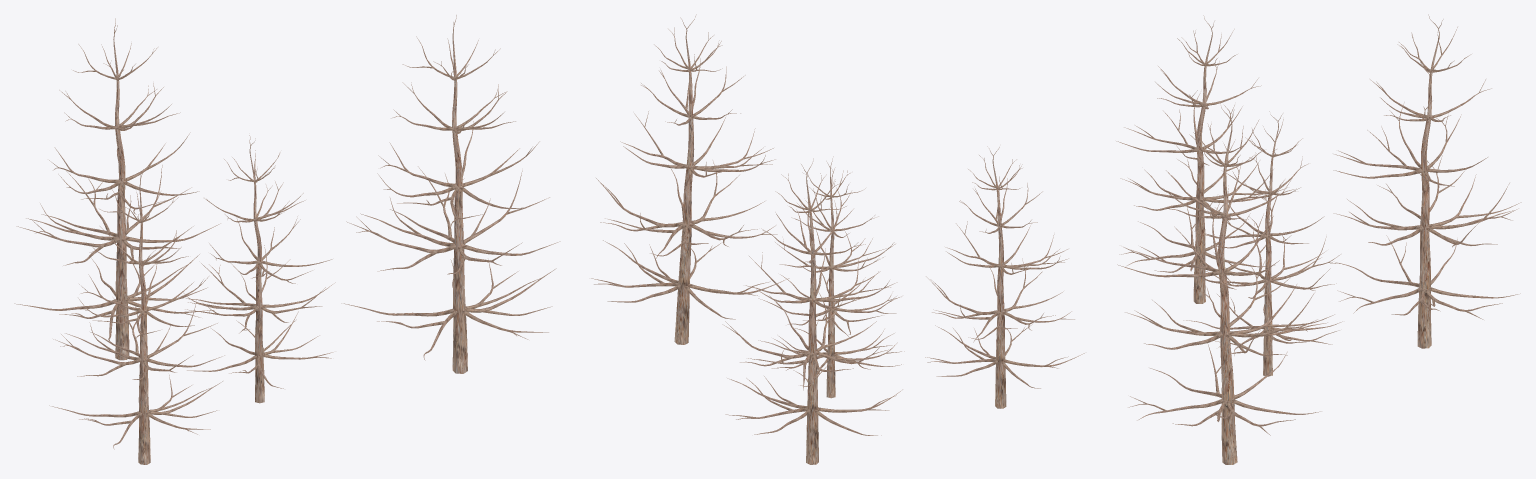
File: deathTree.glb
3 renders of one model, left to right at view 1: azimuth 30°, elevation 25°; view 2: azimuth 150°, elevation 25°; view 3: azimuth 270°, elevation 25°, orthographic. The views are drawn at different scales.
Visible parts, largest first — view 1: tree.02, tree.04, tree.03, tree 01; view 2: tree.02, tree.04, tree.03, tree 01; view 3: tree.02, tree.04, tree.03, tree 01.
Boxes of the visible parts, left/top/right/bottom form: tree.02: left=341, top=15, right=560, bottom=373; tree.04: left=14, top=18, right=220, bottom=360; tree.03: left=49, top=169, right=224, bottom=464; tree 01: left=183, top=135, right=335, bottom=403; tree.02: left=591, top=14, right=789, bottom=344; tree.04: left=722, top=158, right=904, bottom=464; tree.03: left=925, top=146, right=1084, bottom=408; tree 01: left=758, top=156, right=901, bottom=398; tree.02: left=1117, top=103, right=1334, bottom=464; tree.04: left=1333, top=14, right=1521, bottom=348; tree.03: left=1116, top=15, right=1287, bottom=303; tree 01: left=1183, top=111, right=1342, bottom=376.
Size of the model in its own units: 7.98 by 5.46 by 5.69.
1 material, 1 textured.
